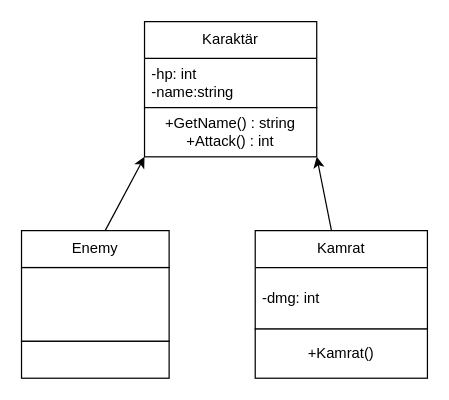
Image size: 449x400. Some labels were removed from this diagram. Each missing label, with the centre of its shape:
"+Enemy()" belongs at point 94,359.
"-dmg: int -hp: int -name: string" belongs at point 94,303.
